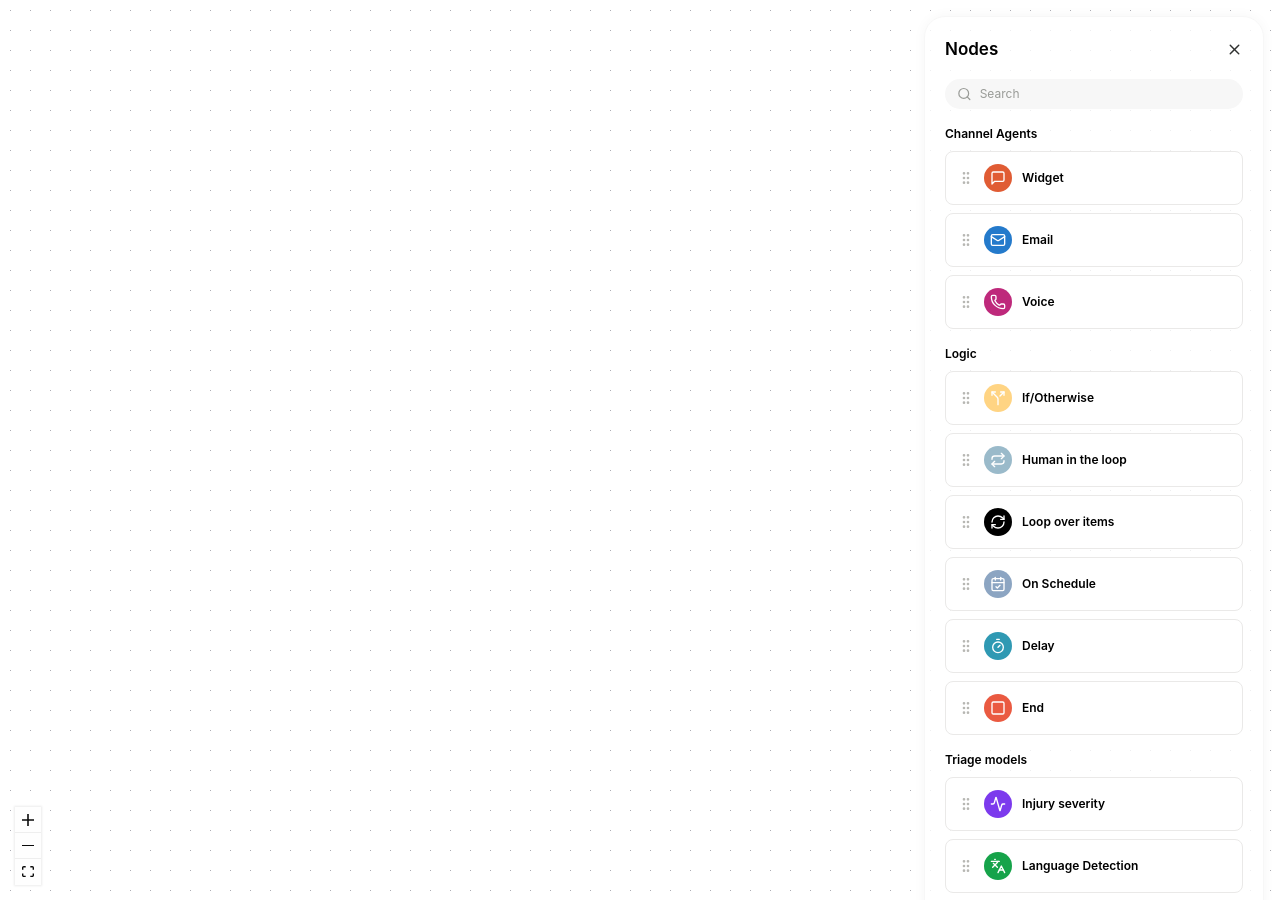
Test: JourneyCanvas › renders the node palette and can close it
Check: the heading "Nodes" is shown, box [945, 37, 998, 62]
Step 1. Click the button named "Close node palette" → click(1234, 50), box [1226, 41, 1243, 58]
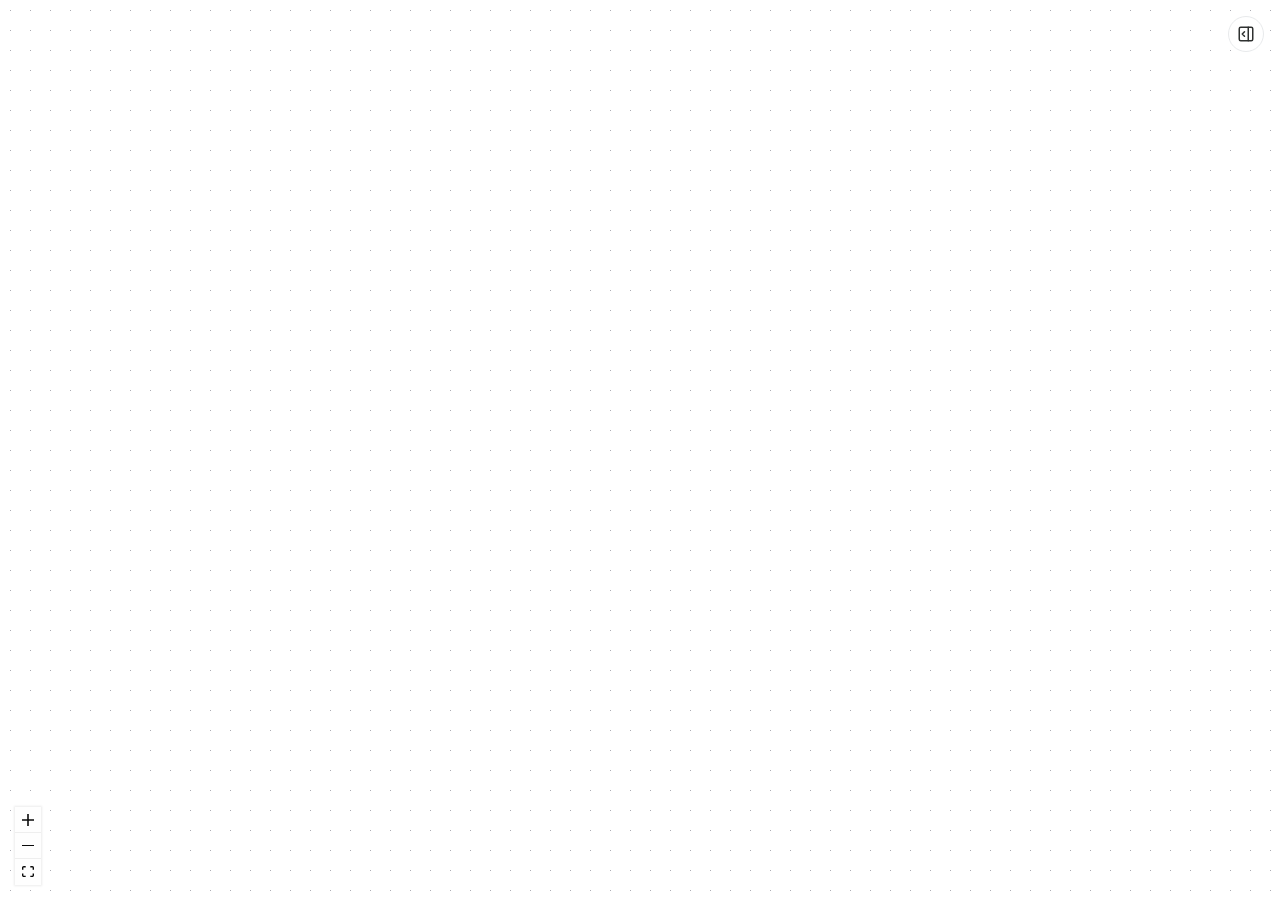
Check: the heading "Nodes" is gone
